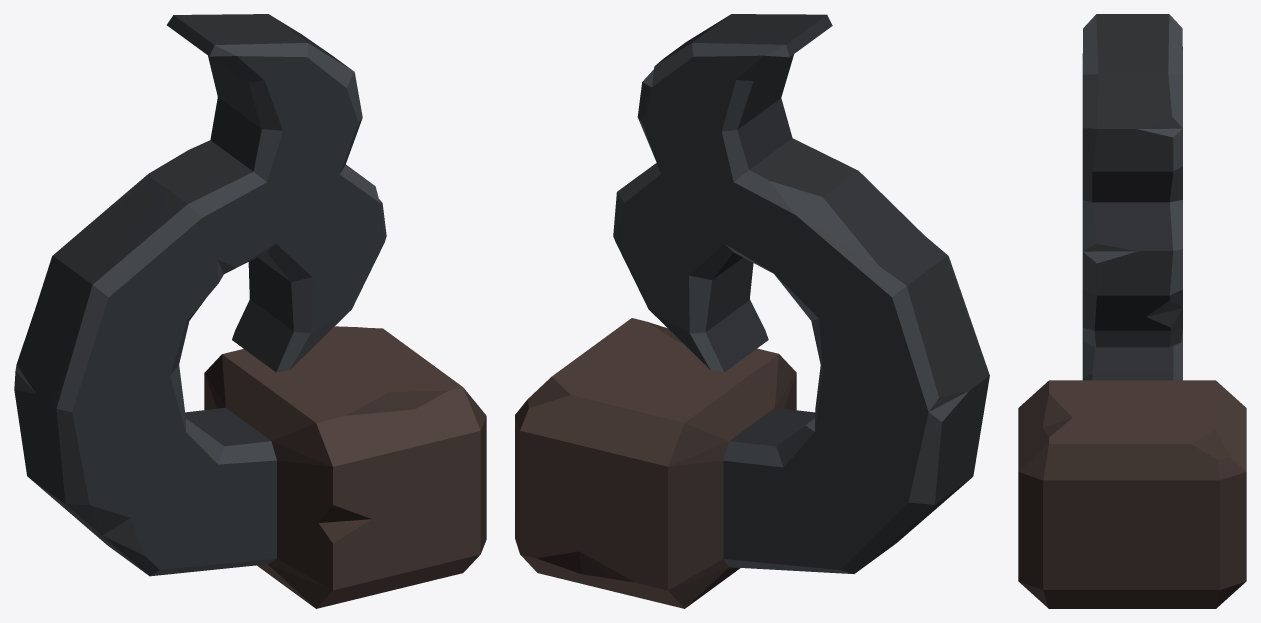
File: SM_Bld_Roof_Trim_Cap_03.fbx
The picture shows the model from 3 angles, left to right: view 1: azimuth 30°, elevation 25°; view 2: azimuth 150°, elevation 25°; view 3: azimuth 270°, elevation 25°; orthographic projection. The views are drawn at different scales.
Parts seen in each view (by area): view 1: SM_Bld_Roof_Trim_Cap_03; view 2: SM_Bld_Roof_Trim_Cap_03; view 3: SM_Bld_Roof_Trim_Cap_03.
Part boxes in pixels (x1,y1,x2,y2): SM_Bld_Roof_Trim_Cap_03: (14,14,486,608); SM_Bld_Roof_Trim_Cap_03: (515,14,989,608); SM_Bld_Roof_Trim_Cap_03: (1018,14,1246,608).
Size of the model in its own units: 62.92 by 84.06 by 34.82.
